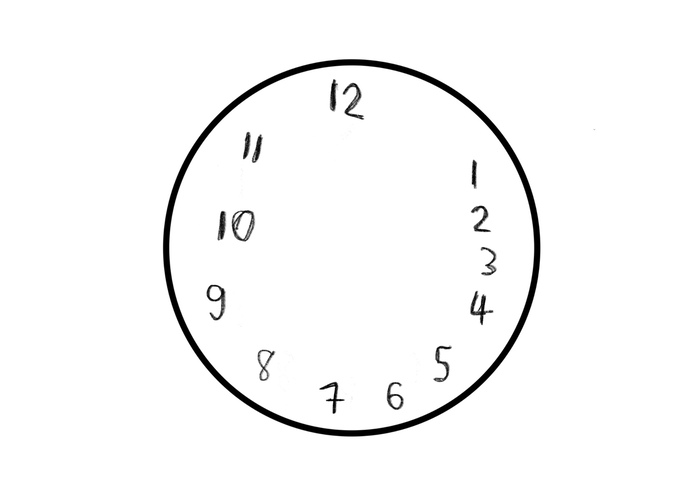eight: (253, 343, 277, 384)
eleven: (240, 127, 266, 166)
five: (428, 340, 459, 383)
four: (468, 287, 497, 326)
nine: (199, 282, 231, 321)
one: (467, 157, 482, 190)
seven: (316, 378, 346, 417)
six: (383, 379, 406, 412)
ten: (213, 207, 261, 247)
three: (477, 241, 499, 279)
twelve: (322, 74, 369, 125)
two: (467, 202, 496, 235)
